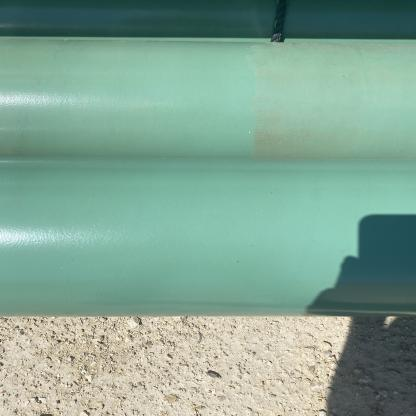clean: (160, 196, 283, 249)
